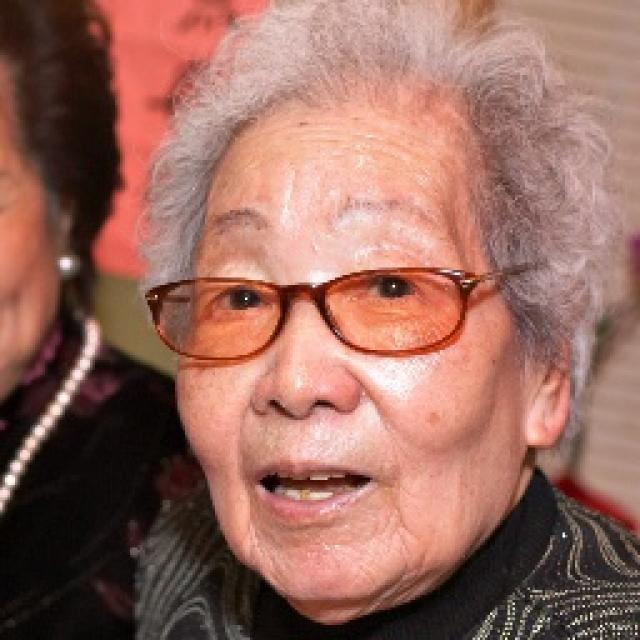earlobe: (522, 399, 565, 448)
eye: (354, 273, 423, 303), (208, 285, 271, 313)
nose: (253, 393, 354, 462)
wholeear: (522, 324, 570, 448)
